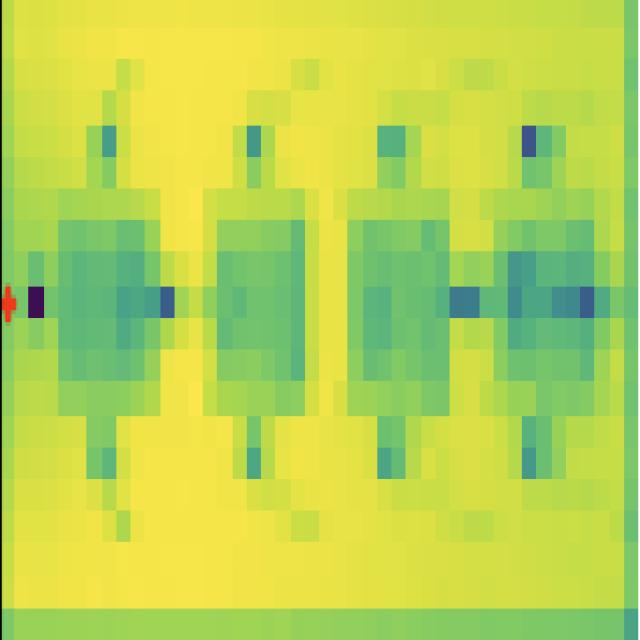Concrete: (196, 160, 320, 430)
Glass: (41, 170, 172, 445)
Metal: (338, 167, 461, 430)
Wood: (480, 157, 608, 422)
